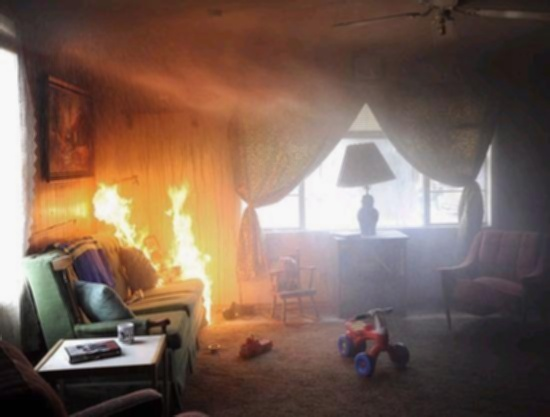fire: (86, 171, 232, 307)
